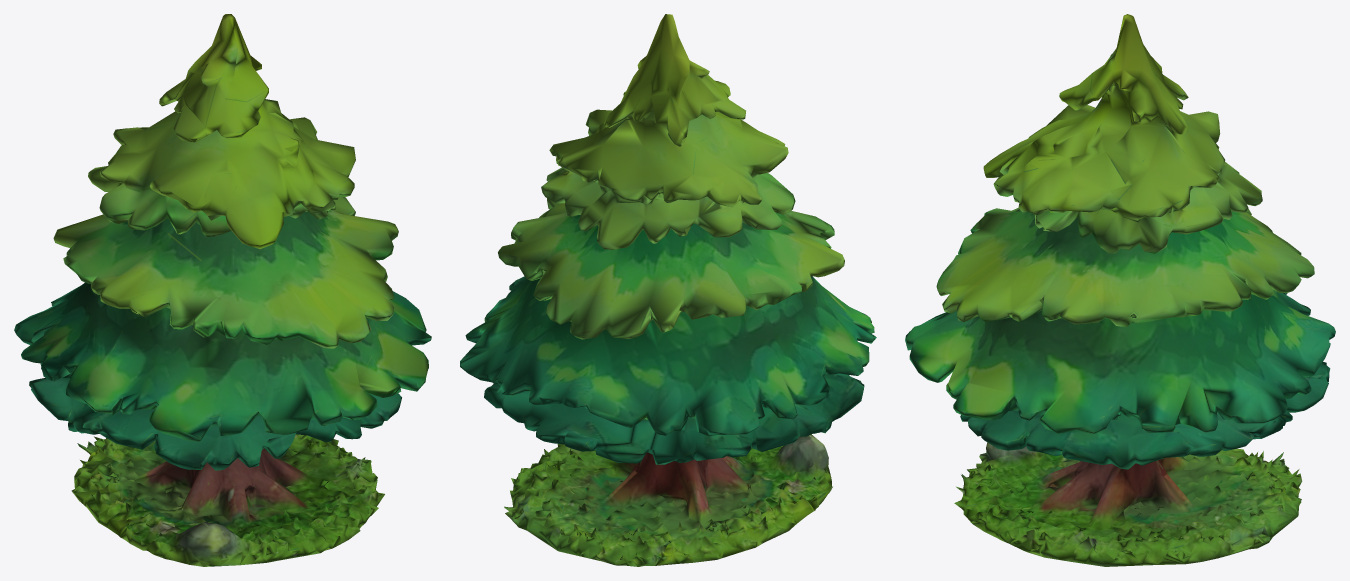
Rendered from treeB02.fbx.
3 views of the same model, side by side, from view 1: azimuth 30°, elevation 25°; view 2: azimuth 150°, elevation 25°; view 3: azimuth 270°, elevation 25° (orthographic).
Parts seen in each view (by area): view 1: treeB02; view 2: treeB02; view 3: treeB02.
Boxes of the visible parts, box(x1,y1,x2,y2) form: treeB02: box(14, 14, 431, 566); treeB02: box(460, 14, 876, 566); treeB02: box(905, 14, 1335, 566).
Size of the model in its own units: 96.33 by 127 by 101.
Materials: 1 (1 with a texture image).
